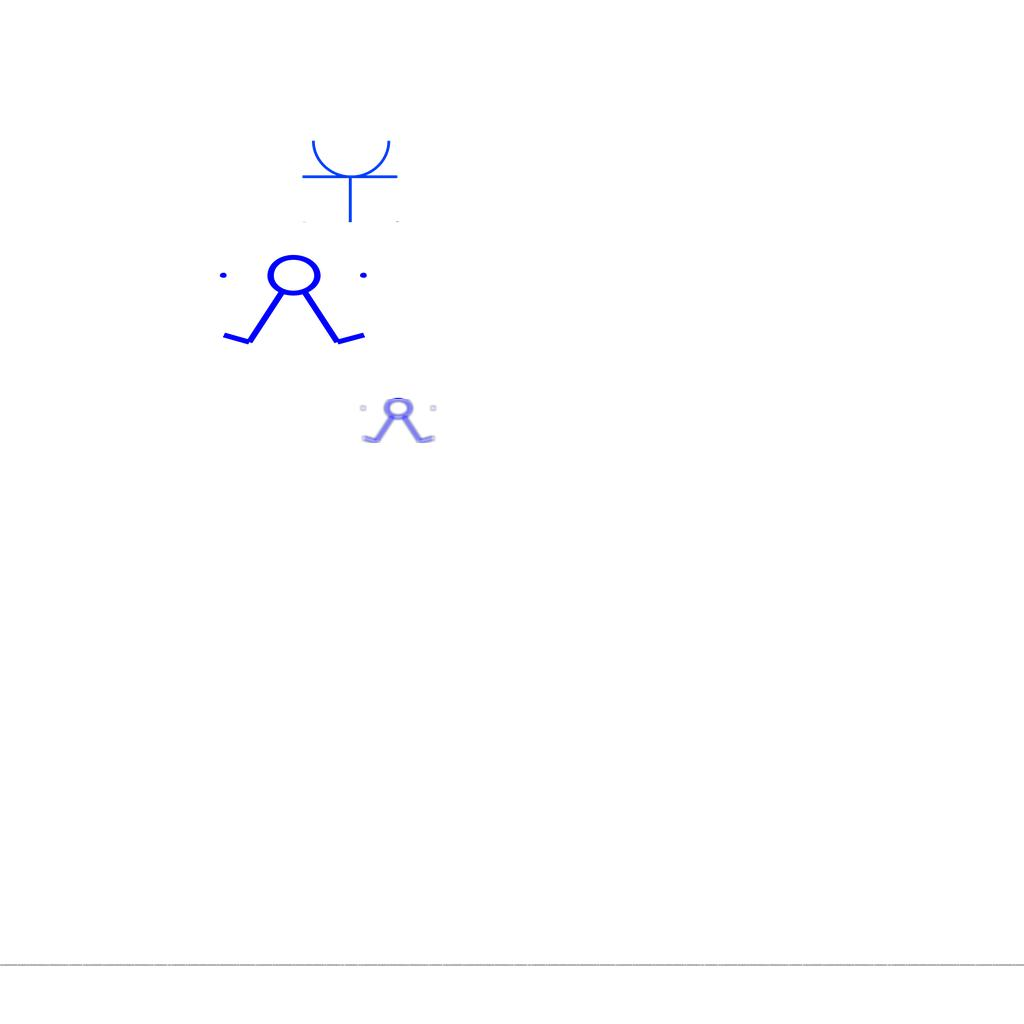Schukosteckdose_einfach: (301, 136, 401, 223)
Serienschalter: (211, 253, 379, 349), (357, 397, 441, 445)
